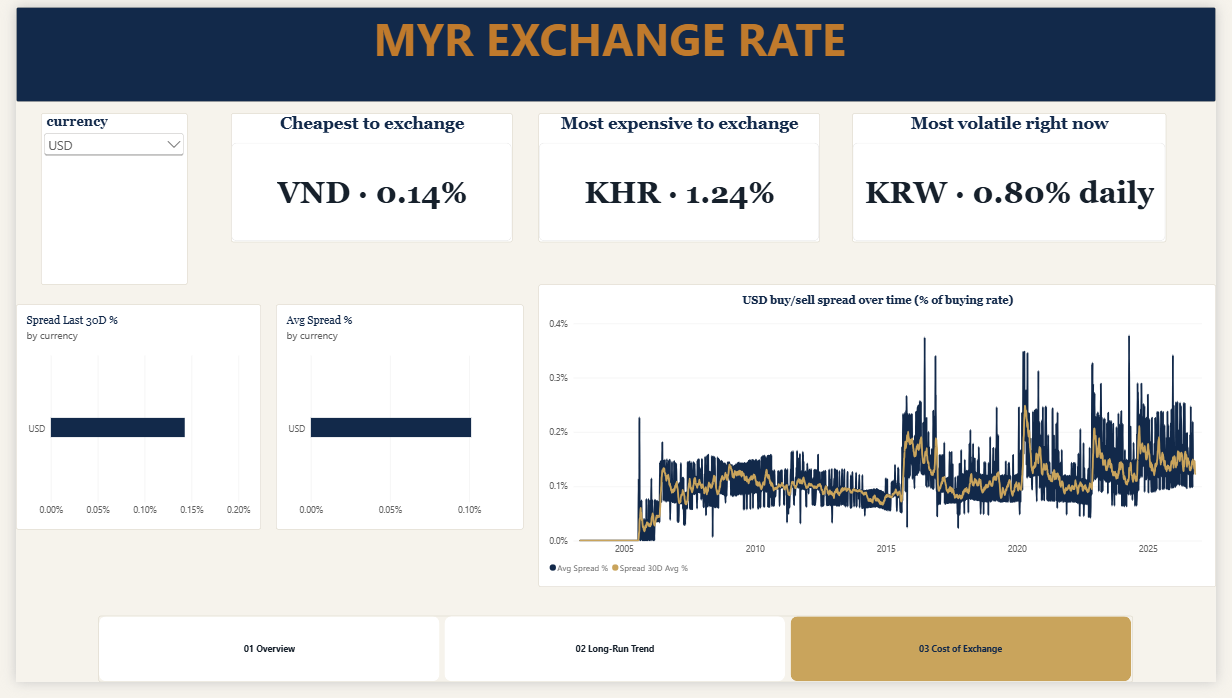

The dashboard page shown, as its layout file describes it:
{"tool":"powerbi","page":{"name":"03 Cost of Exchange","canvas":[1920,1080],"ordinal":2},"visuals":[{"type":"pageNavigator","box":[132,974,1655,106.7],"z":0},{"type":"cardVisual","title":"Cheapest to exchange","fields":{"Data":["public exchange_rates.Cheapest To Exchange Text"]},"box":[344,170,450,206],"z":1000},{"type":"cardVisual","title":"Most expensive to exchange","fields":{"Data":["public exchange_rates.Costliest To Exchange Text"]},"box":[836,170,450,206],"z":2000},{"type":"cardVisual","title":"Most volatile right now","fields":{"Data":["public exchange_rates.Most Volatile Text"]},"box":[1338,170,502,206],"z":3000},{"type":"barChart","fields":{"Category":["Currency.currency"],"Y":["public exchange_rates.Spread Last 30D %"]},"box":[0,476,392,360],"z":4000},{"type":"barChart","fields":{"Category":["Currency.currency"],"Y":["public exchange_rates.Avg Spread %"]},"box":[416,476,396,360],"z":5000},{"type":"lineChart","fields":{"Category":["Date.Date"],"Y":["public exchange_rates.Avg Spread %","Currency.Spread 30D Avg %"]},"box":[836,444,1084,484],"z":6000},{"type":"slicer","fields":{"Values":["Currency.currency"]},"box":[40,170,234,274],"z":7000},{"type":"textbox","box":[0,0,1920,152],"z":8000}]}

Visuals, with their boxes in screenshot pixels (x1, y1, x2, y2), scaled from the page's 1920x1080 canvas onto the 1232x698 screenshot:
pageNavigator: [85,629,1147,697]
"Cheapest to exchange" cardVisual: [221,110,509,243]
"Most expensive to exchange" cardVisual: [536,110,825,243]
"Most volatile right now" cardVisual: [859,110,1181,243]
barChart - Currency.currency x public exchange_rates.Spread Last 30D %: [0,308,252,540]
barChart - Currency.currency x public exchange_rates.Avg Spread %: [267,308,521,540]
lineChart - Date.Date x public exchange_rates.Avg Spread %: [536,287,1231,600]
slicer - Currency.currency: [26,110,176,287]
textbox: [0,0,1231,98]
